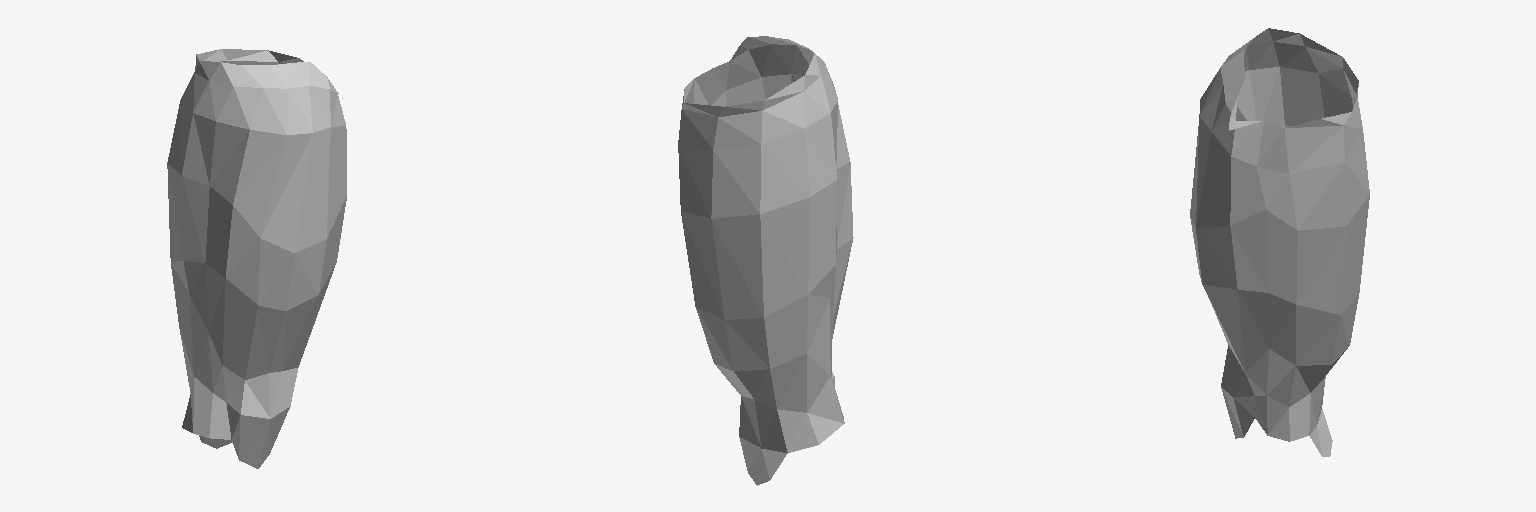
The model's file is Leg_Upper_Right.obj.
The picture shows the model from 3 angles: view 1: azimuth 30°, elevation 25°; view 2: azimuth 150°, elevation 25°; view 3: azimuth 270°, elevation 25°; orthographic projection.
Visible parts, largest first — view 1: Leg_Upper.001_Cube.001; view 2: Leg_Upper.001_Cube.001; view 3: Leg_Upper.001_Cube.001.
Part boxes in pixels (left/top/right/bottom): Leg_Upper.001_Cube.001: left=167, top=49, right=346, bottom=468; Leg_Upper.001_Cube.001: left=678, top=36, right=853, bottom=485; Leg_Upper.001_Cube.001: left=1190, top=28, right=1369, bottom=456.
Bounding box in the file's own units: 4.36 × 12.06 × 4.73.